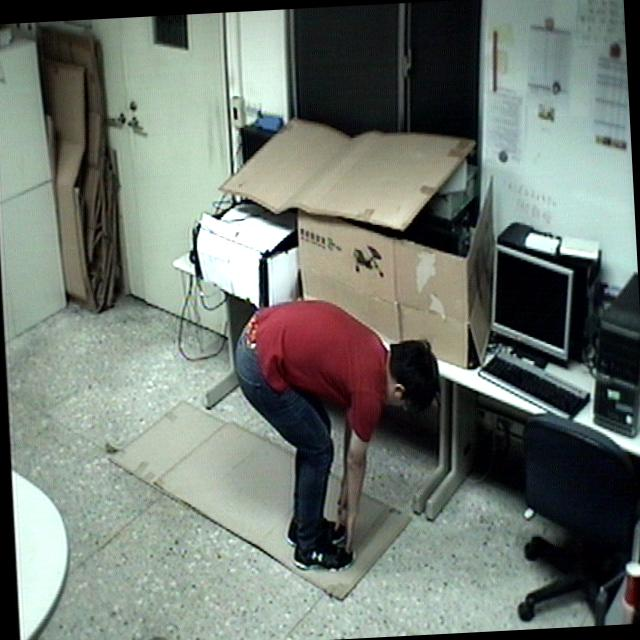bend: (216, 291, 454, 578)
